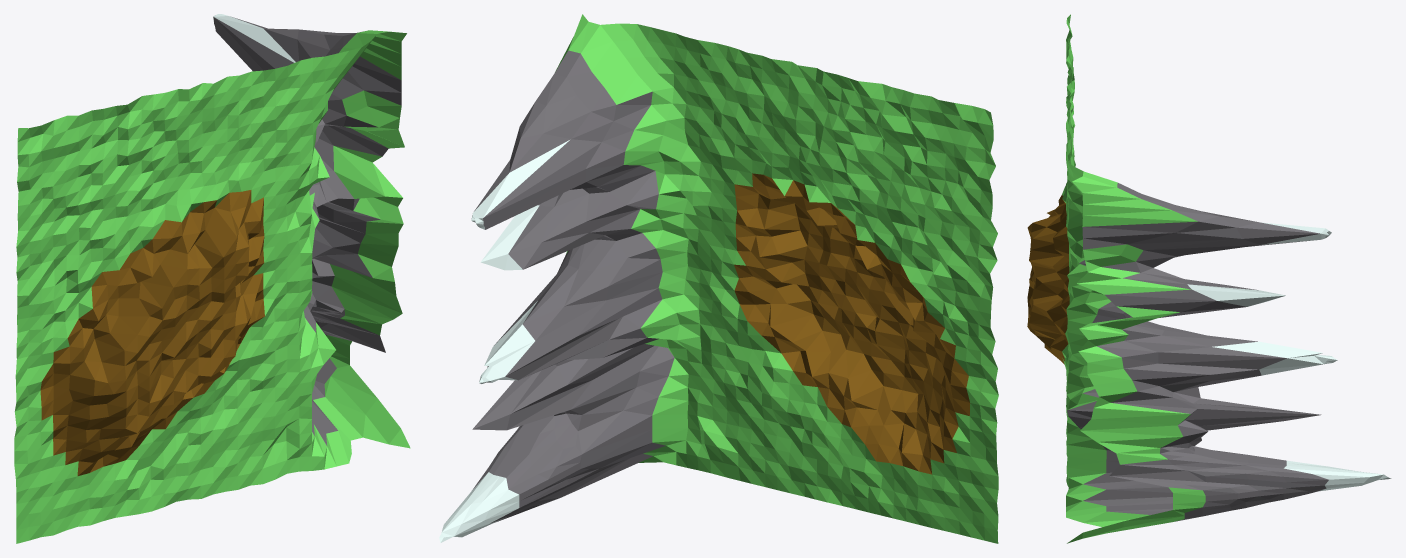
File: tanah.fbx
3 views of the same model, side by side, from view 1: azimuth 30°, elevation 25°; view 2: azimuth 150°, elevation 25°; view 3: azimuth 270°, elevation 25° (orthographic). The views are drawn at different scales.
Parts seen in each view (by area): view 1: Plane; view 2: Plane; view 3: Plane.
Part boxes in pixels (x1,y1,x2,y2): Plane: [14, 14, 410, 543]; Plane: [439, 14, 998, 543]; Plane: [1027, 14, 1391, 543].
Size of the model in its own units: 1602 by 1602 by 1456.
